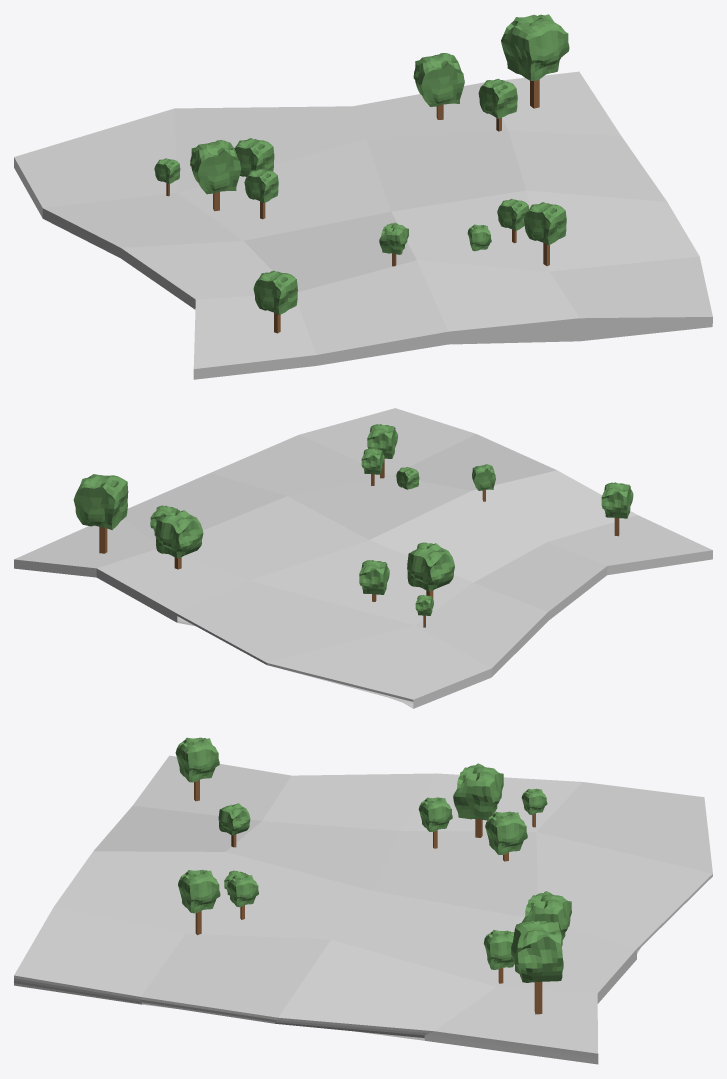
Rendered from island4.glb.
3 renders of one model, top to bottom at view 1: azimuth 30°, elevation 25°; view 2: azimuth 150°, elevation 25°; view 3: azimuth 270°, elevation 25°, orthographic. The views are drawn at different scales.
Parts seen in each view (by area): view 1: Hill.005, Tree.056, Tree.048, Tree.054, Tree.057, Tree.051, Tree.055, Tree.050, Tree.049, Tree.053, Tree.059; view 2: Hill.005, Tree.056, Tree.048, Tree.054, Tree.057, Tree.050, Tree.051, Tree.059, Tree.053; view 3: Hill.005, Tree.056, Tree.048, Tree.057, Tree.050, Tree.051, Tree.054, Tree.055, Tree.049, Tree.059, Tree.053, Tree.058.
Part boxes in pixels (x1,y1,x2,y2): Hill.005: (14,71,712,379); Tree.056: (501,14,569,80); Tree.048: (190,140,241,194); Tree.054: (413,53,464,106); Tree.057: (253,270,297,315); Tree.051: (524,202,566,245); Tree.055: (478,78,517,118); Tree.050: (234,138,274,176); Tree.049: (244,168,278,202); Tree.053: (497,198,528,230); Tree.059: (379,222,408,254); Hill.005: (14,408,712,708); Tree.056: (73,474,128,529); Tree.048: (407,543,454,591); Tree.054: (155,510,203,558); Tree.057: (601,482,633,518); Tree.050: (359,560,389,594); Tree.051: (367,424,397,458); Tree.059: (472,464,495,490); Tree.053: (361,448,384,474); Hill.005: (14,755,712,1064); Tree.056: (511,920,563,982); Tree.048: (453,763,503,820); Tree.057: (175,737,219,782); Tree.050: (485,811,527,854); Tree.051: (178,869,220,913); Tree.054: (522,891,571,945); Tree.055: (483,930,514,969); Tree.049: (418,797,452,831); Tree.059: (218,803,250,835); Tree.053: (227,874,258,907); Tree.058: (521,788,547,814).
Size of the model in its own units: 6.13 by 0.9898 by 6.12.
